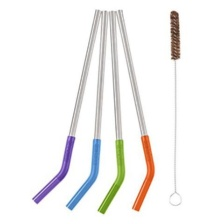drinking_straw: (28, 7, 105, 207), (113, 6, 160, 215)
